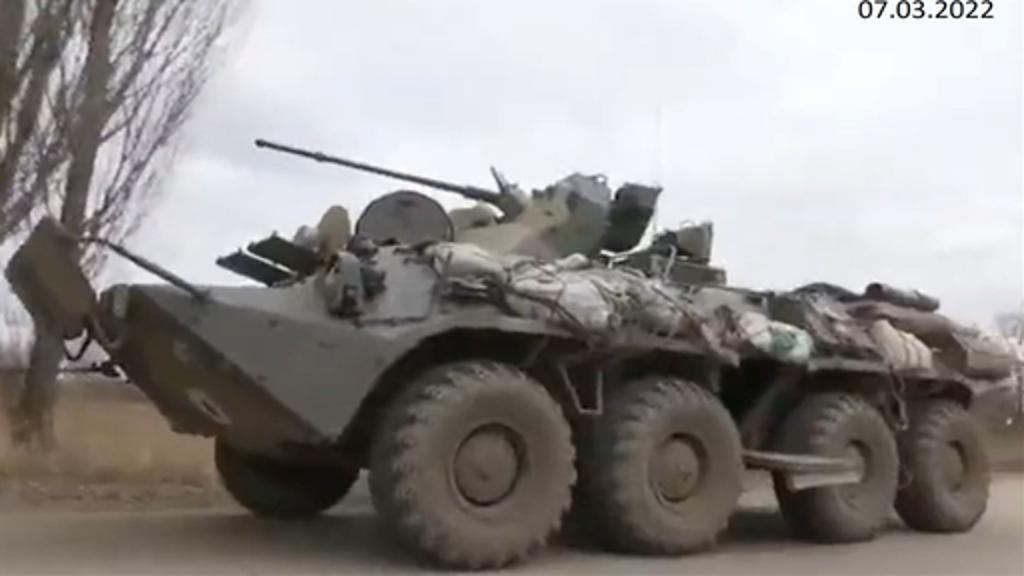APC-IFV: (64, 128, 998, 574)
